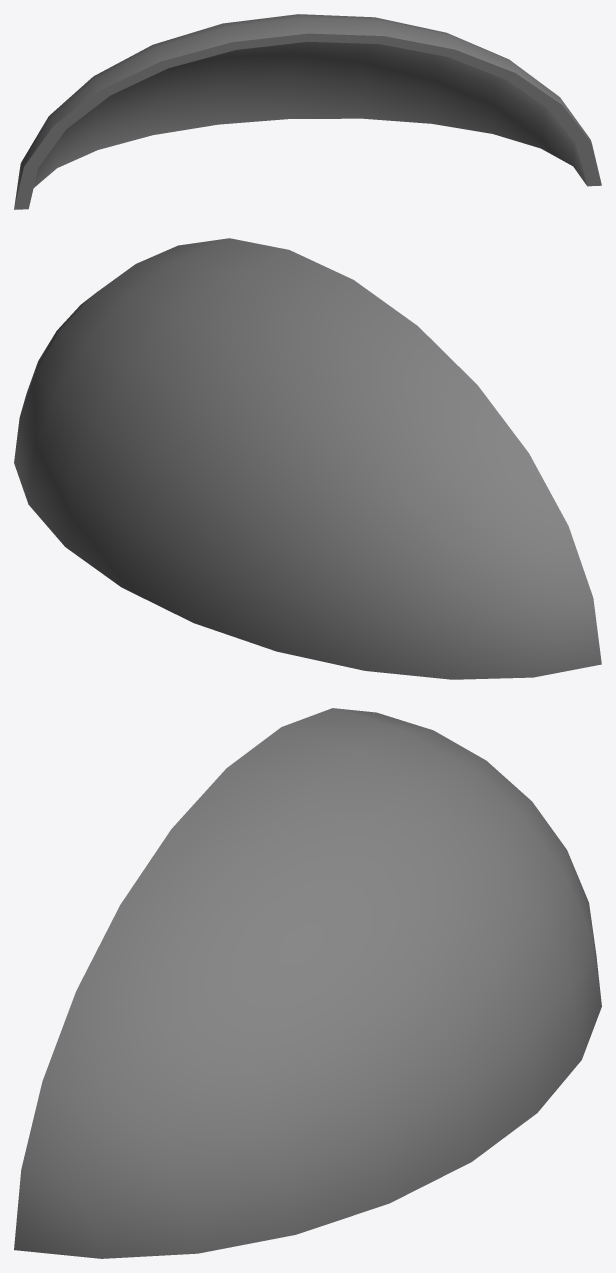
File: Primitive_140-158-021__1f25ead7-ae9b-45c3-9887-b863ad60bcd5.dae
The picture shows the model from 3 angles, top to bottom: view 1: azimuth 30°, elevation 25°; view 2: azimuth 150°, elevation 25°; view 3: azimuth 270°, elevation 25°; orthographic projection. The views are drawn at different scales.
Parts seen in each view (by area): view 1: Primitive; view 2: Primitive; view 3: Primitive.
Boxes of the visible parts, x1=… form: Primitive: x1=14, y1=14, x2=601, y2=209; Primitive: x1=14, y1=238, x2=601, y2=679; Primitive: x1=14, y1=708, x2=601, y2=1258.
Size of the model in its own units: 20.24 by 12.49 by 6.68.
